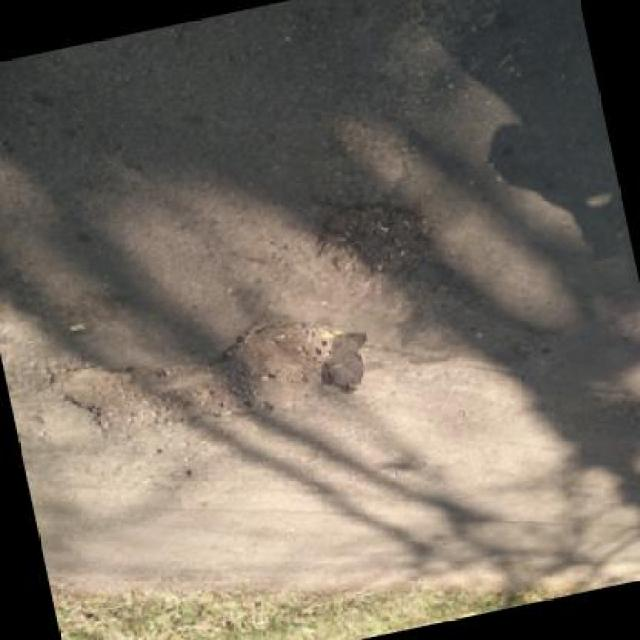pothole1: (38, 299, 359, 463), (305, 189, 443, 297)
